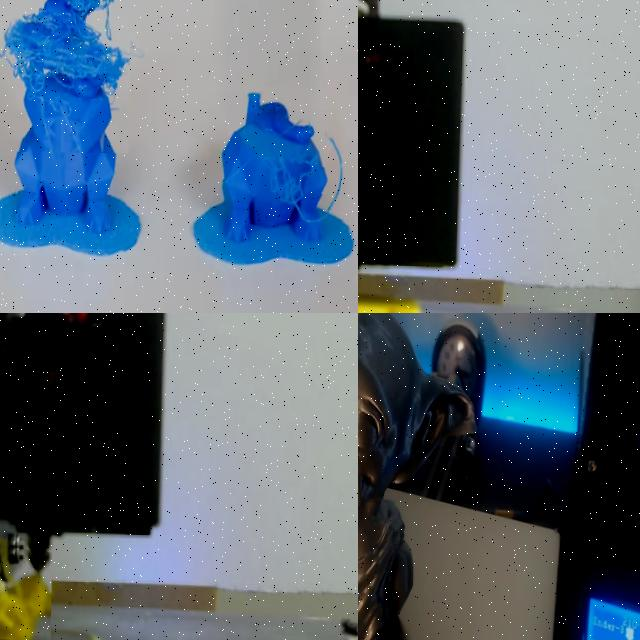spaghetti: (0, 0, 130, 153), (0, 544, 51, 640), (265, 151, 327, 221), (326, 132, 342, 209)
